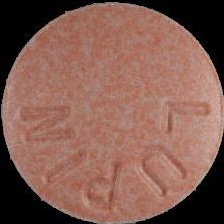54458-995: (0, 0, 224, 224)
